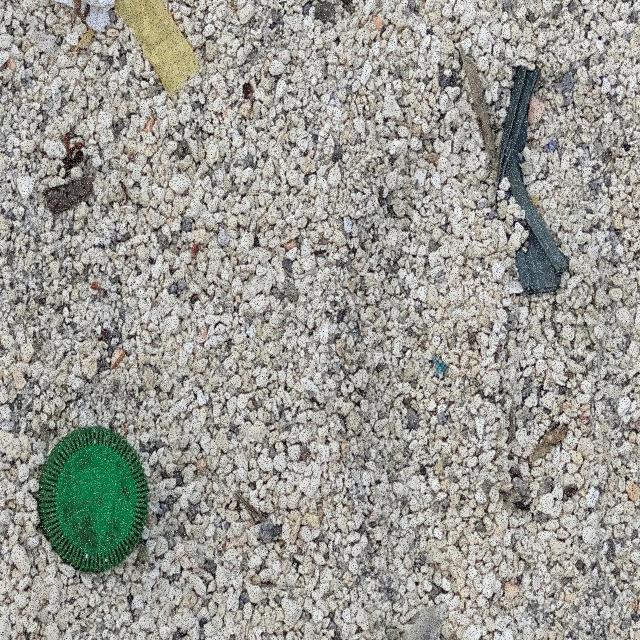plastic_waste: (36, 425, 146, 574)
